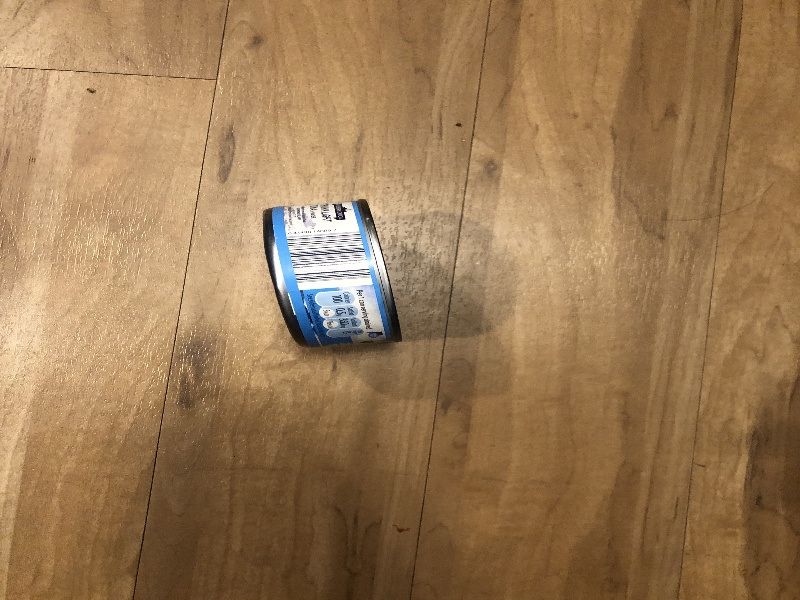metal: (257, 192, 412, 357)
